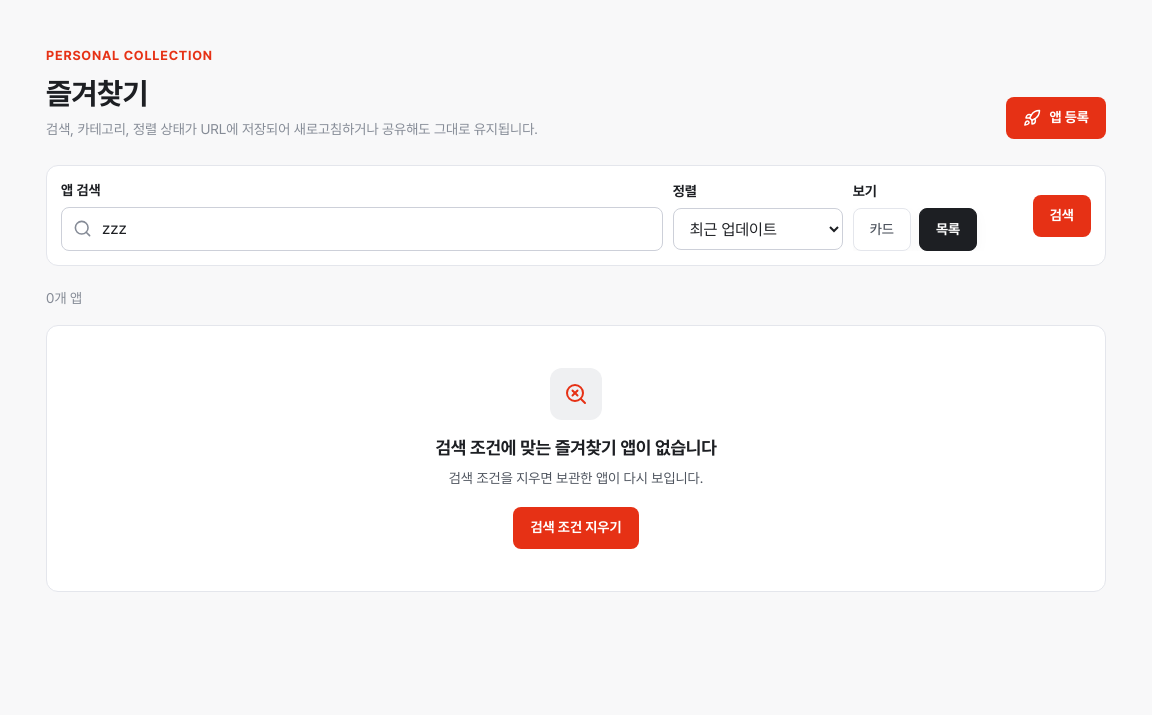
Test: Apps route state › blames the search, not an empty collection, when /favorites finds nothing
Expected: the heading "검색 조건에 맞는 즐겨찾기 앱이 없습니다" is shown, [435,434,717,461]
Expected: the text "검색 조건을 지우면 보관한 앱이 다시 보입니다." is shown, [435,468,717,489]
Click the button "검색 조건 지우기" at {"x": 576, "y": 528}, box [513,507,639,549]
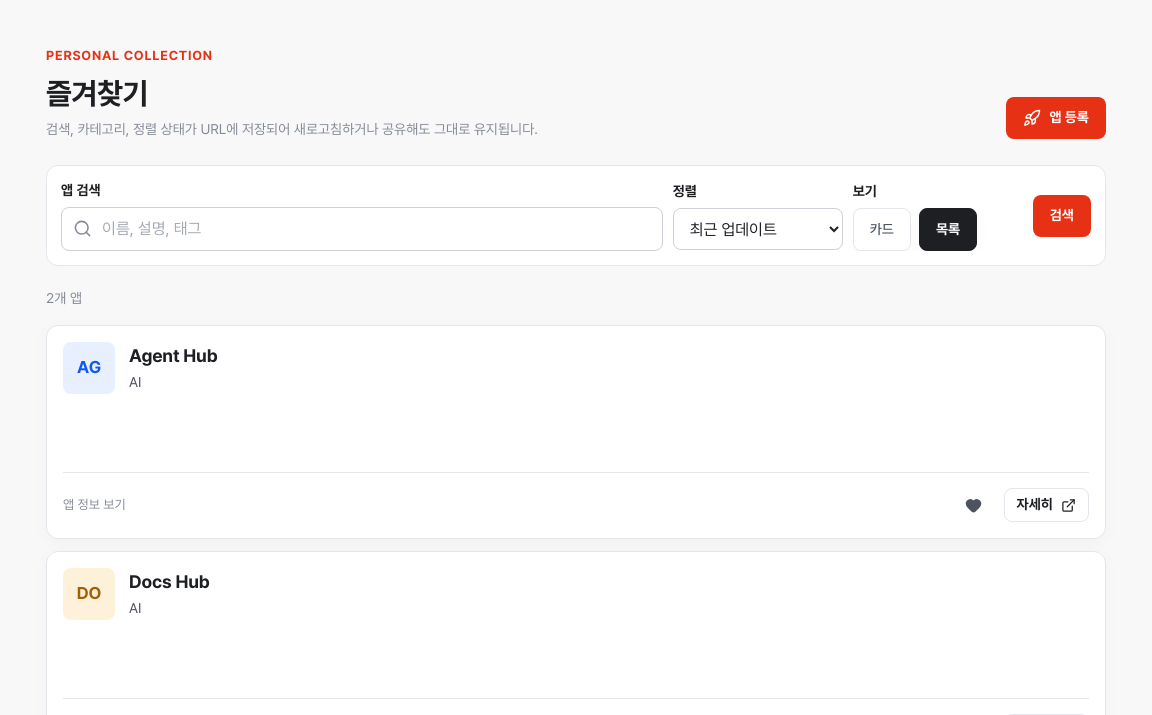
Now the heading "Agent Hub" is shown, box [129,343,218,369]
Now the heading "Docs Hub" is shown, box [129,569,210,595]
Now the field labelled "앱 검색" is empty, box [61,207,663,251]
